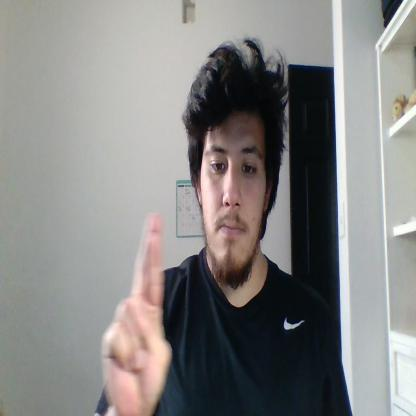R: (101, 210, 173, 415)
